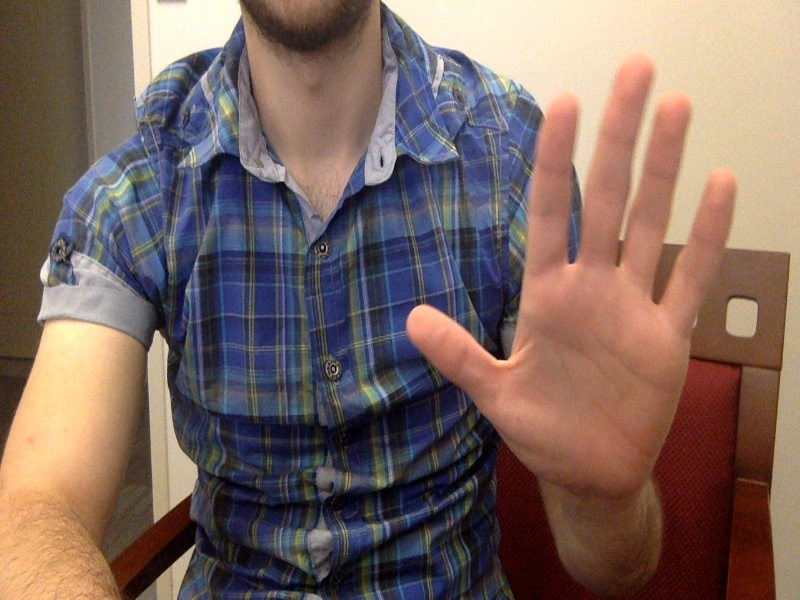5-hand: (407, 56, 741, 497)
